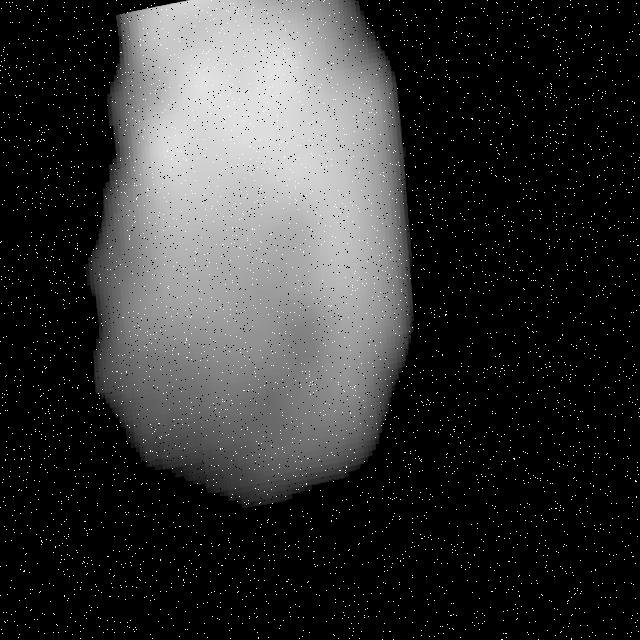person: (71, 1, 440, 570)
